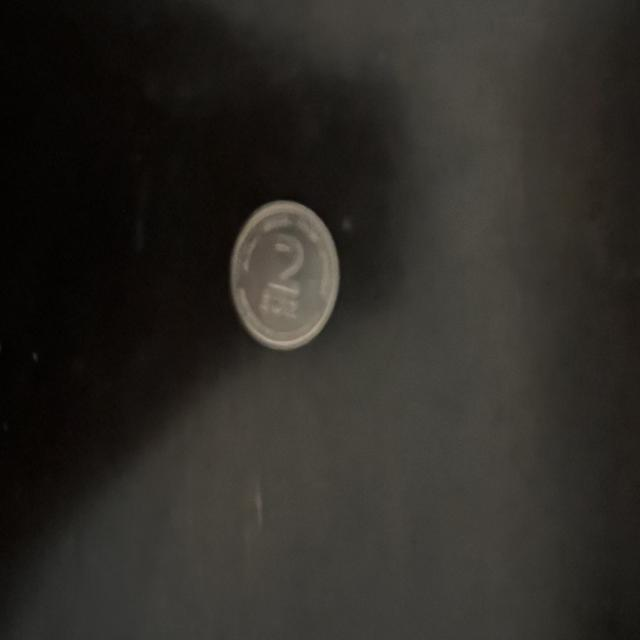2-shekel: (230, 202, 341, 351)
